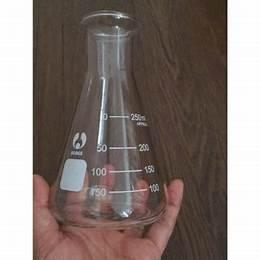Titrarion: (44, 11, 170, 230)
